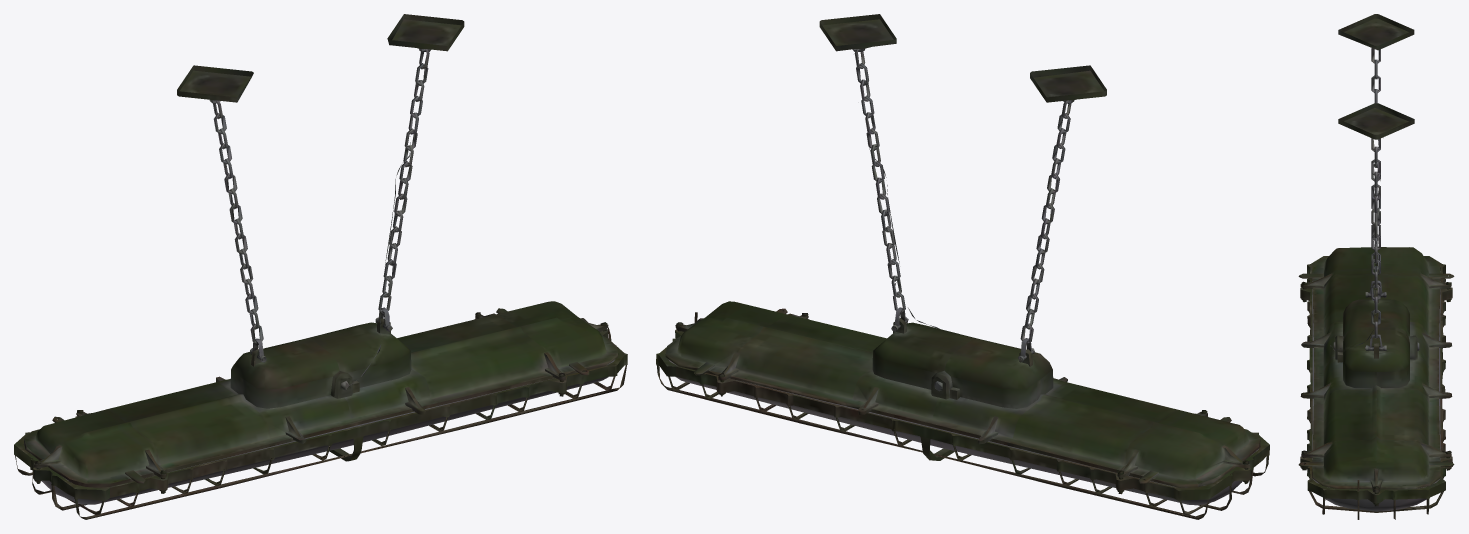
The model's file is caged-hanging-light.gltf.
The picture shows the model from 3 angles, left to right: view 1: azimuth 30°, elevation 25°; view 2: azimuth 150°, elevation 25°; view 3: azimuth 270°, elevation 25°; orthographic projection. The views are drawn at different scales.
Visible parts, largest first — view 1: caged_hanging_light; view 2: caged_hanging_light; view 3: caged_hanging_light.
Boxes of the visible parts, bbox=[...] form: caged_hanging_light: bbox=[14, 14, 627, 519]; caged_hanging_light: bbox=[656, 14, 1269, 519]; caged_hanging_light: bbox=[1298, 14, 1454, 519].
Bounding box in the file's own units: 1.16 × 0.7501 × 0.3149.
1 material, 1 textured.
